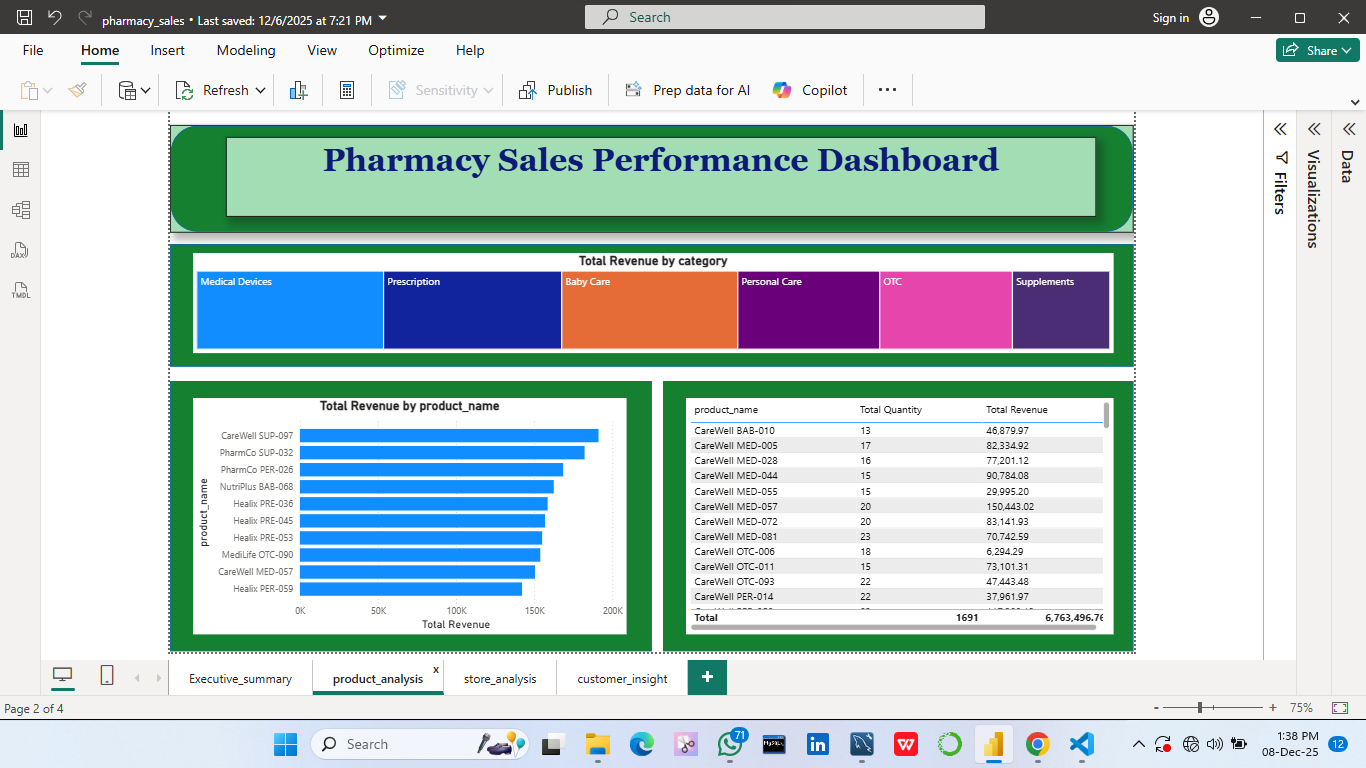

This screenshot's page, from the dashboard's own definition file:
{"tool":"powerbi","page":{"name":"product_analysis","canvas":[1280,720],"ordinal":1},"visuals":[{"type":"shape","box":[655.1,359.5,624.9,359.5],"z":0},{"type":"shape","box":[0,359.5,640,359.5],"z":1000},{"type":"shape","box":[0,178.1,1280,162.9],"z":2000},{"type":"clusteredBarChart","fields":{"Category":["pharmacy_sales products.product_name"],"Y":["pharmacy_sales sales.Total Revenue"]},"box":[30.2,383,576.2,314.1],"z":3000},{"type":"treemap","fields":{"Values":["pharmacy_sales sales.Total Revenue"],"Group":["pharmacy_sales products.category"]},"box":[30.2,189.8,1222.9,132.7],"z":4000},{"type":"tableEx","fields":{"Values":["pharmacy_sales products.product_name","pharmacy_sales sales.Total Quantity","pharmacy_sales sales.Total Revenue"]},"box":[685.4,383,567.8,314.1],"z":5000},{"type":"shape","box":[0,20.2,1280,142.8],"z":6000},{"type":"textbox","box":[73.9,35.3,1155.7,105.8],"z":7000}]}

Visuals, with their boxes on the page's 1280x720 design canvas (x1, y1, x2, y2). These are canvas units, not pixel positions in the 1366x768 screenshot, which may show the page scaled, cropped or inside an application window:
shape: pyautogui.locateOnScreen(655, 360, 1280, 719)
shape: pyautogui.locateOnScreen(0, 360, 640, 719)
shape: pyautogui.locateOnScreen(0, 178, 1280, 341)
clusteredBarChart - pharmacy_sales products.product_name x pharmacy_sales sales.Total Revenue: pyautogui.locateOnScreen(30, 383, 606, 697)
treemap - pharmacy_sales sales.Total Revenue x pharmacy_sales products.category: pyautogui.locateOnScreen(30, 190, 1253, 322)
tableEx - pharmacy_sales products.product_name x pharmacy_sales sales.Total Quantity: pyautogui.locateOnScreen(685, 383, 1253, 697)
shape: pyautogui.locateOnScreen(0, 20, 1280, 163)
textbox: pyautogui.locateOnScreen(74, 35, 1230, 141)
